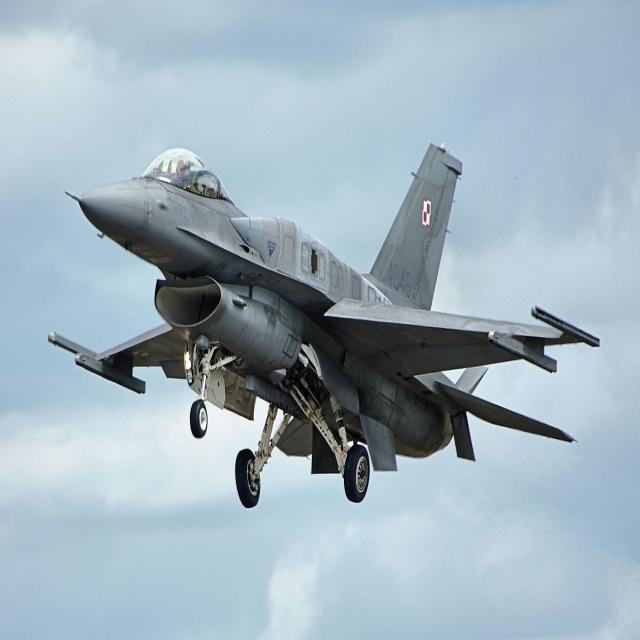MIL_Plane: (47, 142, 601, 509)
